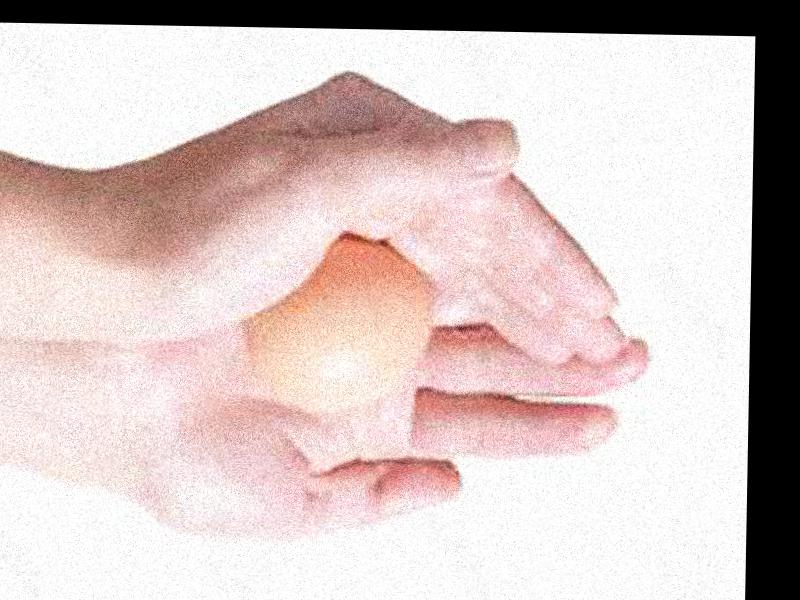Eggs: (254, 239, 432, 407)
